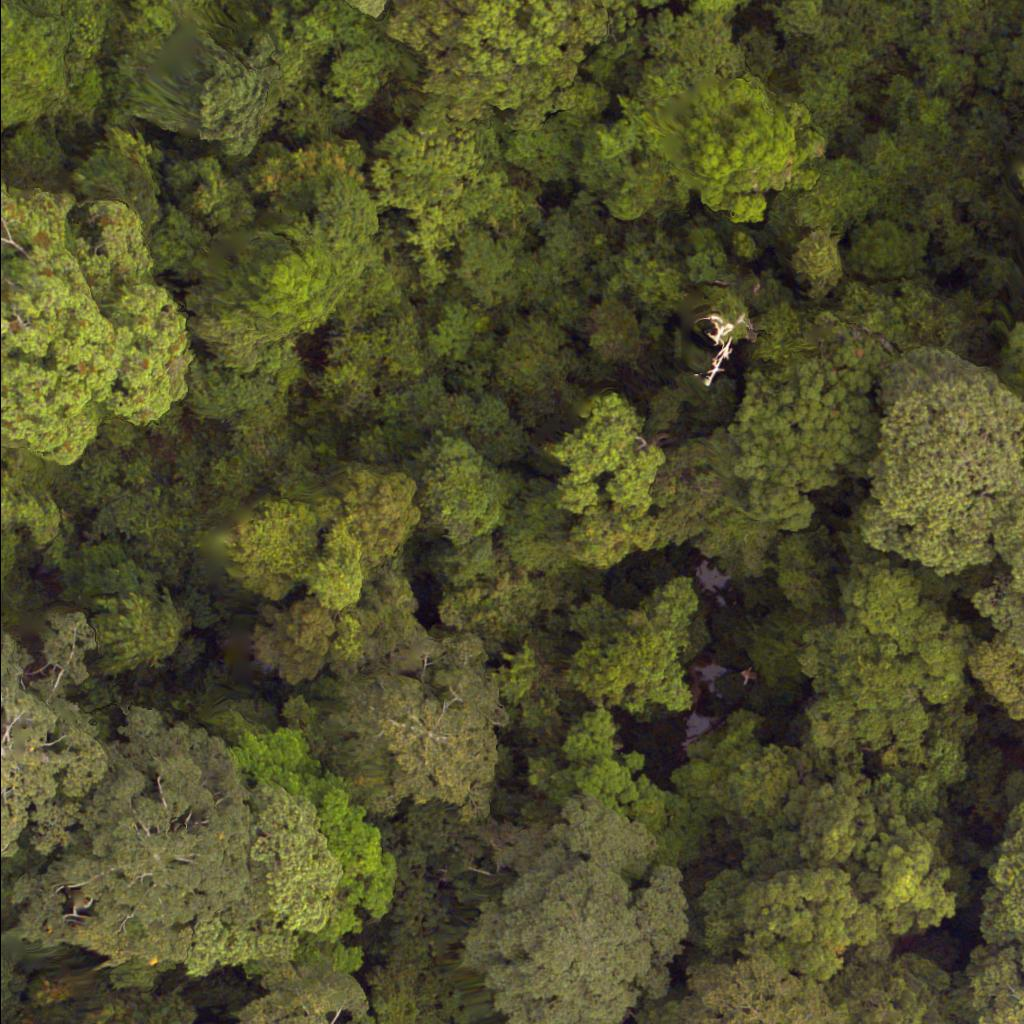crown: (0, 183, 207, 492), (467, 832, 686, 1023), (853, 345, 1023, 590), (336, 631, 529, 819), (630, 57, 818, 244), (728, 348, 884, 535), (394, 0, 635, 120), (371, 117, 516, 285), (543, 384, 669, 568), (553, 570, 700, 715), (72, 544, 187, 680), (189, 40, 299, 164), (665, 968, 844, 1023), (984, 798, 1023, 935), (300, 0, 435, 31), (976, 947, 1023, 1023)
